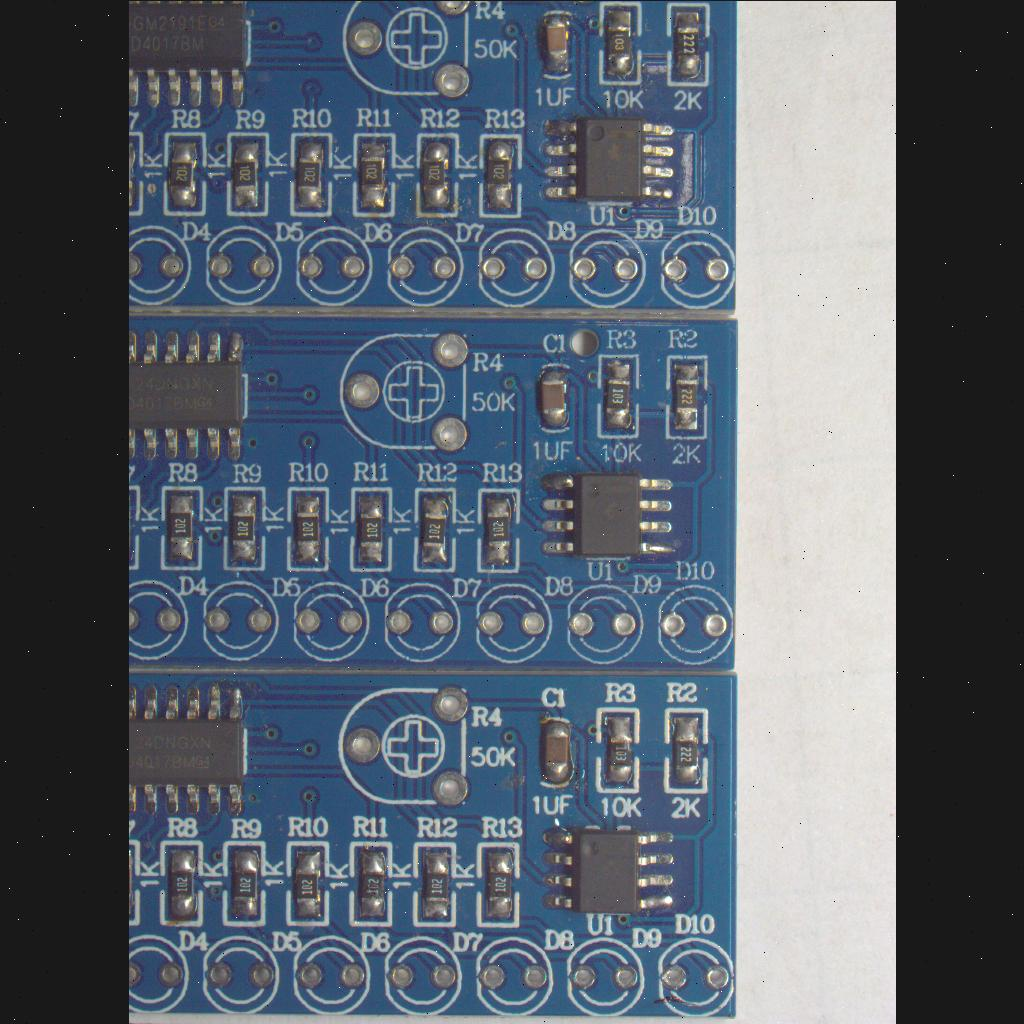OK: (128, 320, 250, 470), (128, 677, 252, 823), (128, 0, 254, 116), (535, 112, 681, 210), (529, 470, 681, 564), (537, 823, 683, 919), (156, 834, 208, 928), (660, 702, 712, 796), (219, 836, 271, 928), (224, 126, 274, 220), (592, 703, 642, 797), (476, 129, 526, 221), (220, 482, 268, 576), (157, 480, 205, 574), (410, 484, 460, 574), (473, 839, 523, 929), (664, 0, 714, 90), (411, 836, 459, 928), (414, 128, 462, 220), (662, 352, 712, 440), (286, 128, 334, 218), (160, 129, 208, 219), (594, 351, 642, 441), (348, 482, 394, 574), (284, 484, 332, 572), (349, 130, 397, 218), (474, 486, 522, 574), (596, 0, 644, 88), (284, 838, 330, 928), (348, 838, 394, 928), (533, 708, 577, 792), (534, 2, 578, 82), (534, 358, 574, 436), (128, 132, 144, 214)
